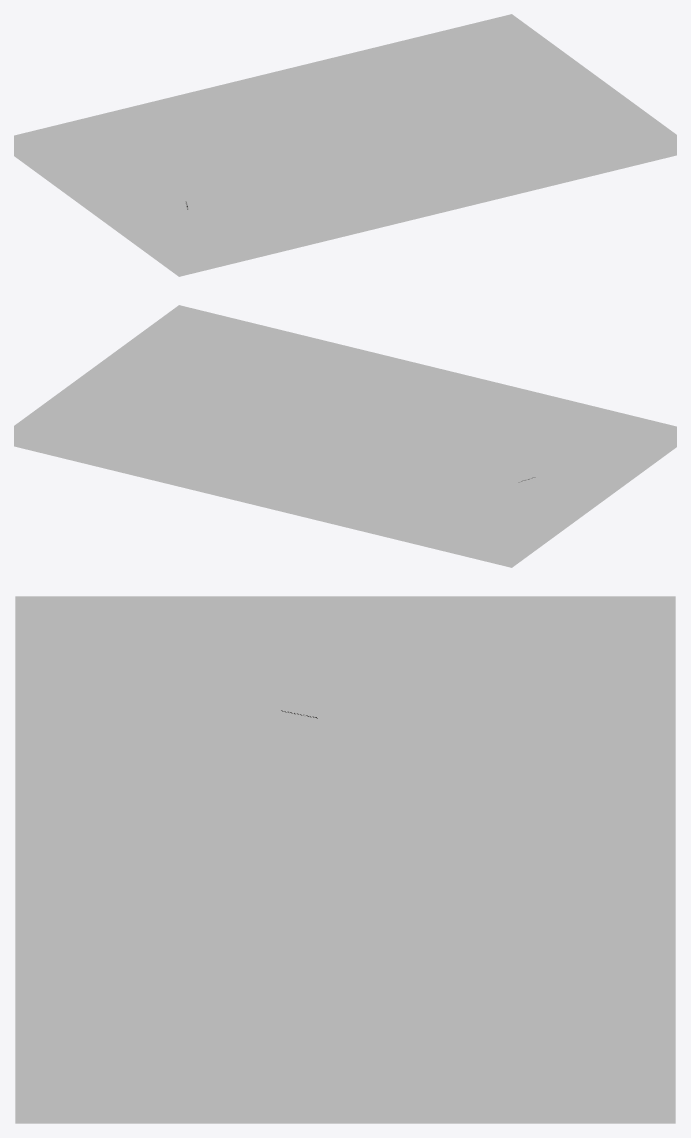
File: 2022_october_pro_cw.dae
3 views of the same model, one above another, from view 1: azimuth 30°, elevation 25°; view 2: azimuth 150°, elevation 25°; view 3: azimuth 270°, elevation 25° (orthographic). The views are drawn at different scales.
Parts seen in each view (by area): view 1: field, wall, road, ol, il, cl; view 2: field, wall, road, ol, il, cl; view 3: field, wall, road, il, ol, cl.
Boxes of the visible parts, bbox=[...] form: field: bbox=[35, 34, 655, 256]; wall: bbox=[14, 14, 676, 276]; road: bbox=[74, 70, 585, 210]; ol: bbox=[94, 79, 565, 201]; il: bbox=[72, 69, 587, 211]; cl: bbox=[84, 74, 575, 206]; field: bbox=[35, 325, 655, 547]; wall: bbox=[14, 305, 676, 567]; road: bbox=[103, 365, 561, 538]; ol: bbox=[124, 374, 540, 529]; il: bbox=[101, 364, 563, 538]; cl: bbox=[113, 369, 551, 533]; field: bbox=[15, 637, 675, 1082]; wall: bbox=[15, 596, 675, 1123]; road: bbox=[53, 653, 637, 1082]; il: bbox=[50, 652, 640, 1082]; ol: bbox=[95, 671, 595, 1082]; cl: bbox=[73, 662, 617, 1082].
Bounding box in the file's own units: 25.35 × 14.56 × 1.
